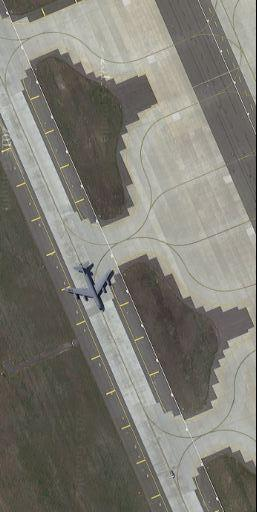KC-135: (59, 259, 120, 313)
